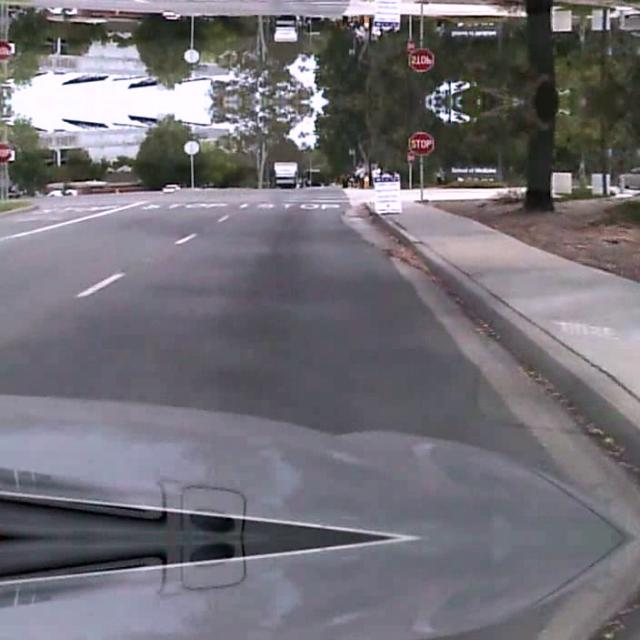stop: (406, 130, 434, 154), (406, 48, 434, 72)
